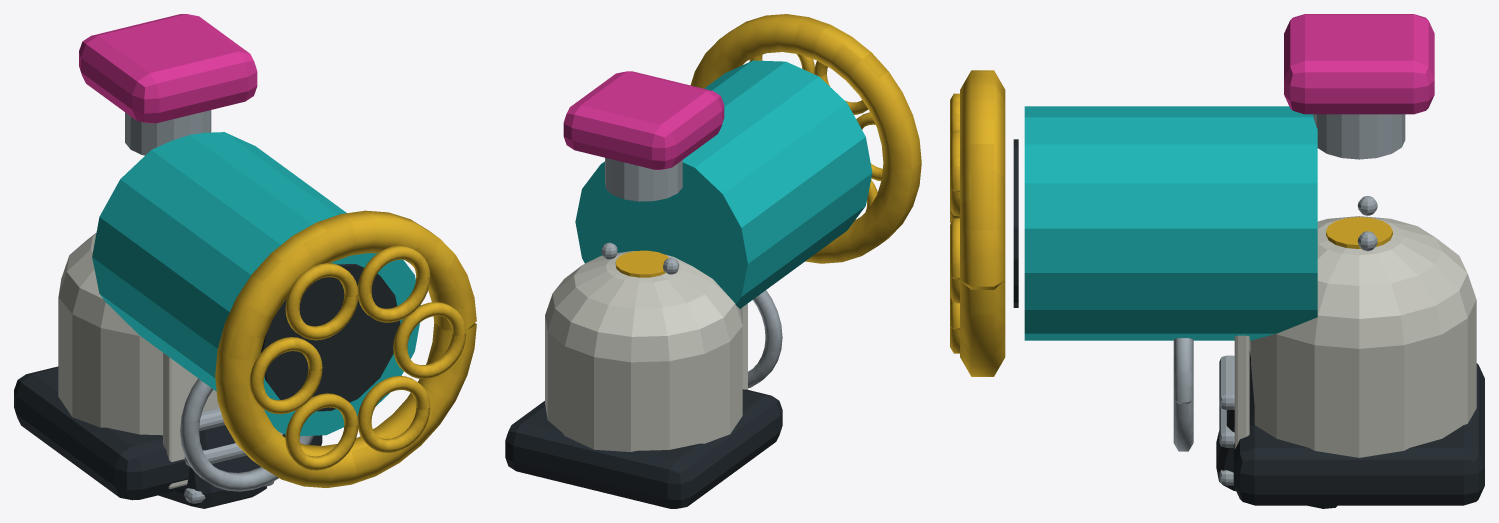
File: bubble-gun.glb
3 views of the same model, side by side, from view 1: azimuth 30°, elevation 25°; view 2: azimuth 150°, elevation 25°; view 3: azimuth 270°, elevation 25° (orthographic). The views are drawn at different scales.
Parts seen in each view (by area): view 1: barrel; view 2: barrel; view 3: barrel.
Boxes of the visible parts, left/top/right/bottom form: barrel: left=14, top=14, right=476, bottom=508; barrel: left=505, top=14, right=921, bottom=508; barrel: left=950, top=14, right=1484, bottom=508.
Bounding box in the file's own units: 0.3667 × 0.6039 × 0.639.
